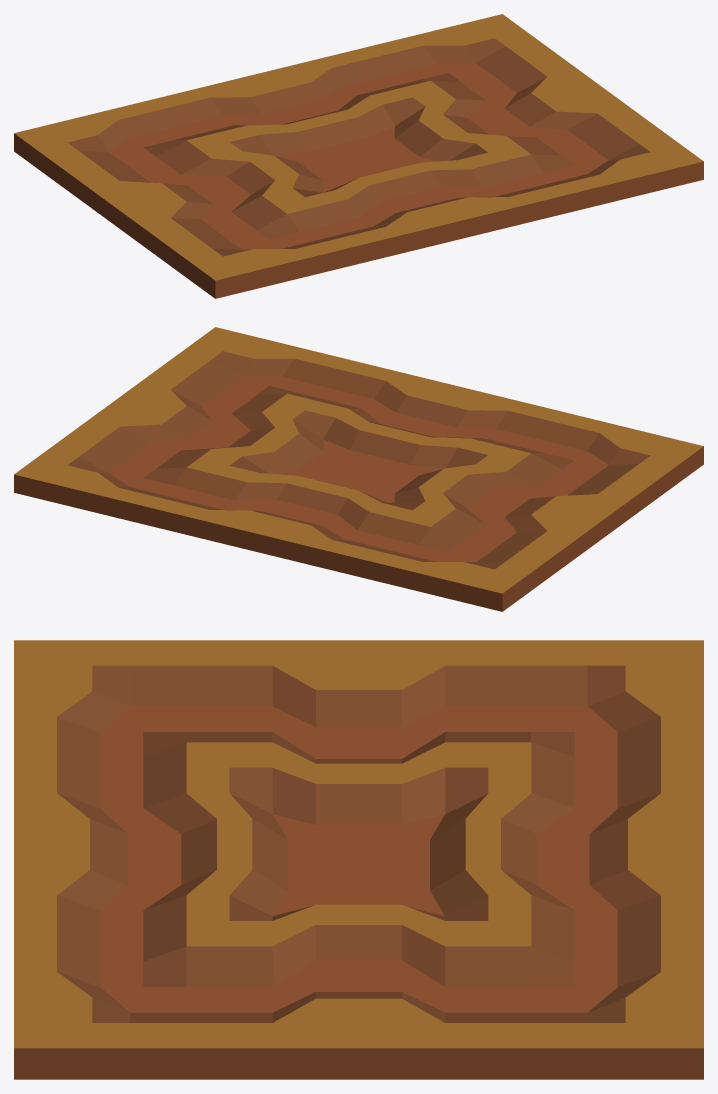
The model's file is elevatorCeiling.fbx.
3 renders of one model, top to bottom at view 1: azimuth 30°, elevation 25°; view 2: azimuth 150°, elevation 25°; view 3: azimuth 270°, elevation 25°, orthographic. The views are drawn at different scales.
Visible parts, largest first — view 1: Cube; view 2: Cube; view 3: Cube.
Part boxes in pixels (x1,y1,x2,y2): Cube: [14, 14, 703, 298]; Cube: [14, 327, 703, 611]; Cube: [14, 640, 703, 1079].
Size of the model in its own units: 700 by 25 by 500.
